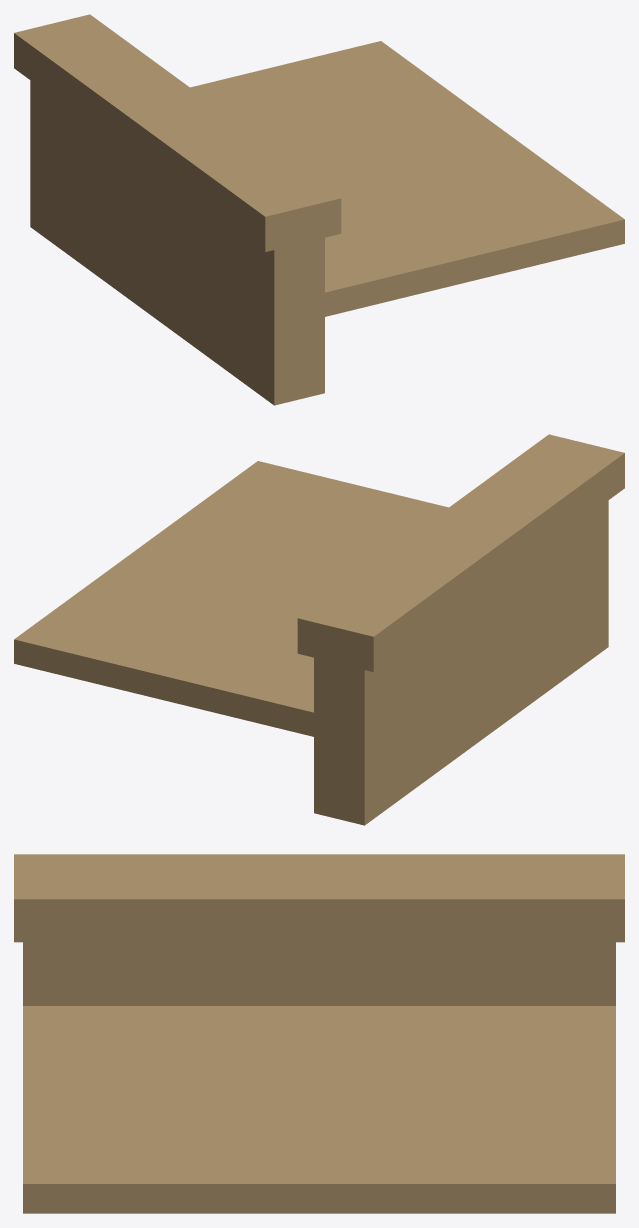
The model's file is road_support.glb.
3 views of the same model, one above another, from view 1: azimuth 30°, elevation 25°; view 2: azimuth 150°, elevation 25°; view 3: azimuth 270°, elevation 25° (orthographic). The views are drawn at different scales.
Visible parts, largest first — view 1: road_support; view 2: road_support; view 3: road_support.
Boxes of the visible parts, x1,y1,x2,y2 form: road_support: (14, 14, 624, 405); road_support: (14, 434, 624, 825); road_support: (14, 854, 624, 1213).
Size of the model in its own units: 0.86 by 0.44 by 1.03.
